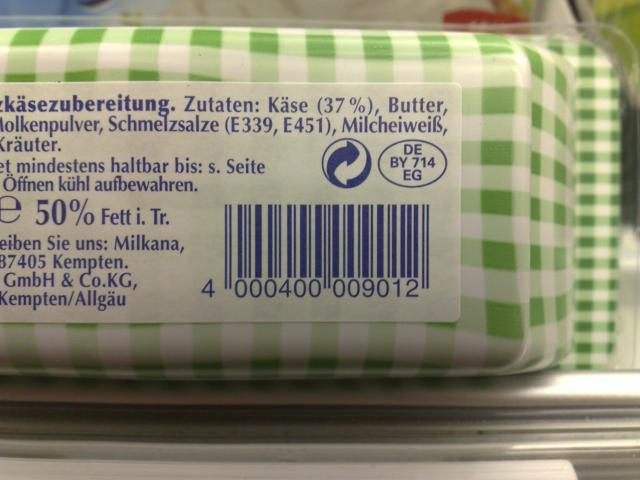Barkod: (223, 203, 430, 278)
